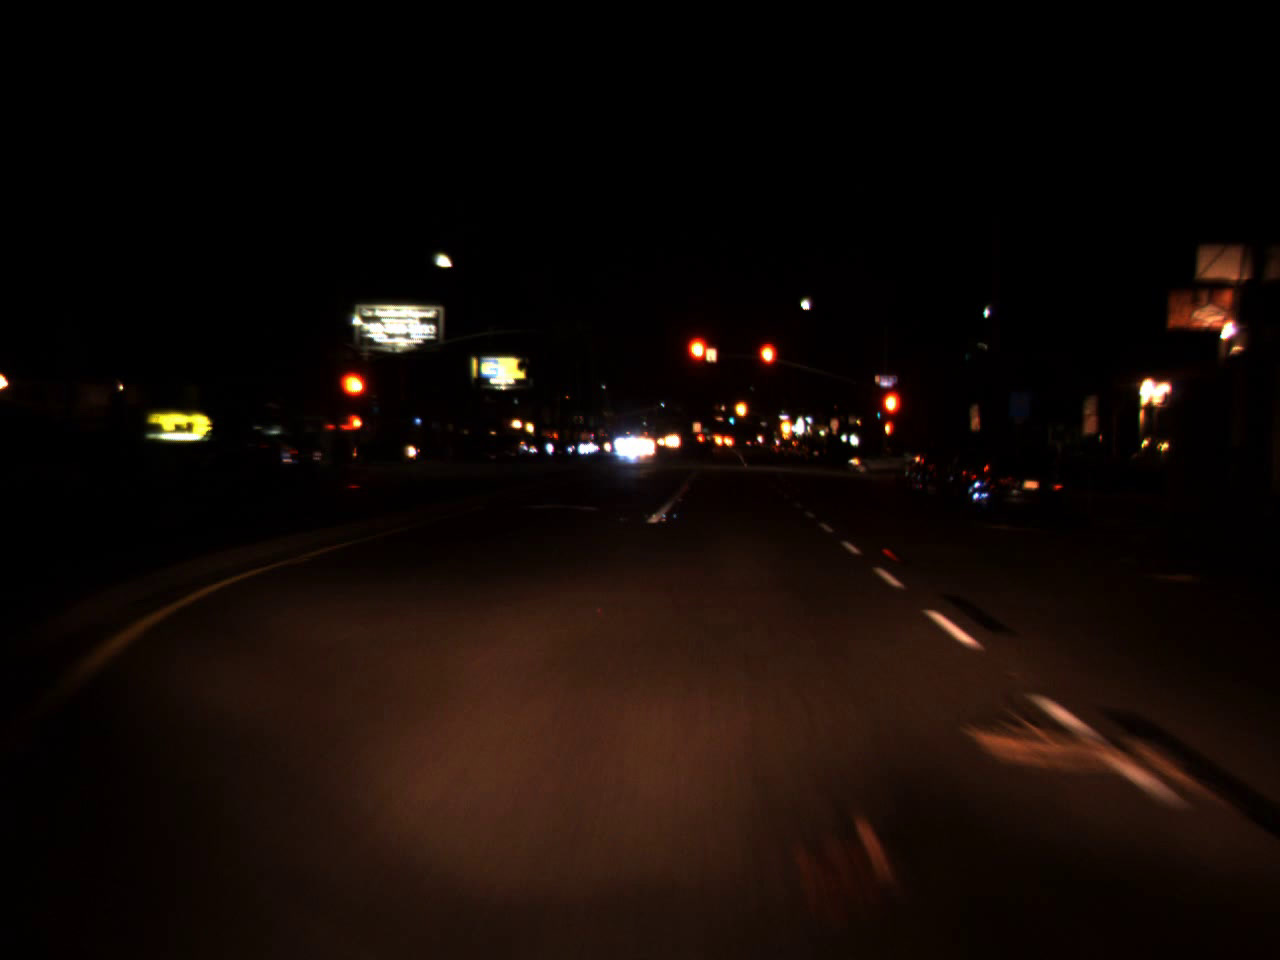go: (727, 409, 734, 427)
stop: (336, 368, 369, 424), (684, 333, 714, 389), (880, 388, 902, 442), (757, 340, 778, 388)
warning: (733, 390, 749, 425), (779, 413, 794, 443)
